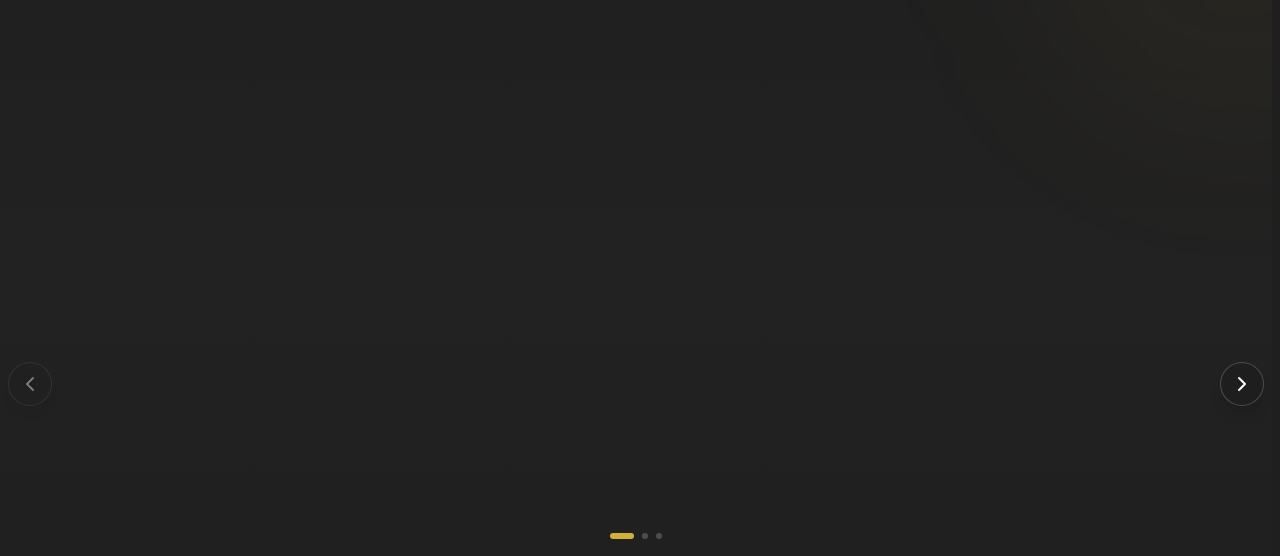
Test: Services desktop carousel › shows one row of three services and moves through pages with arrows
Click the button named "Next services" at [1242, 384], box [1220,362,1264,406]
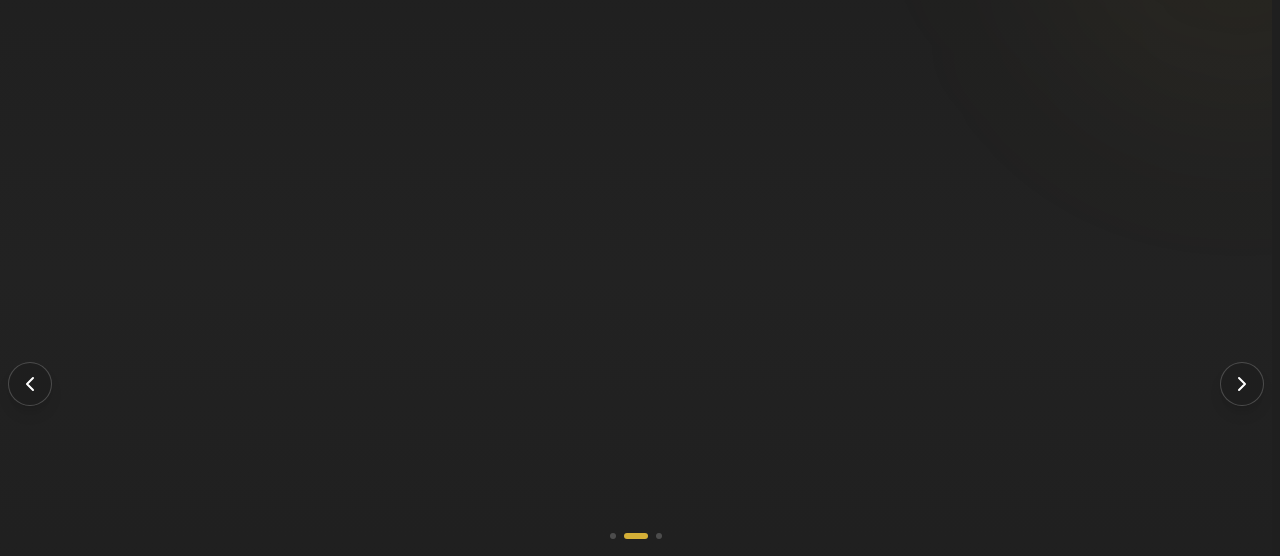
Click the button named "Next services" at [1242, 384], box [1220,362,1264,406]
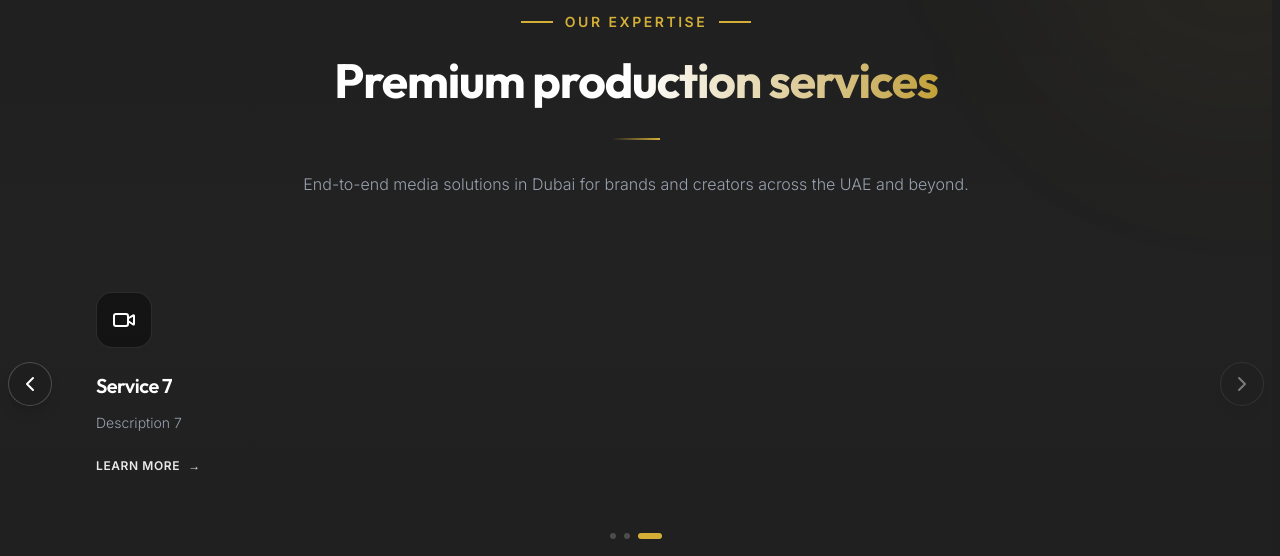
Expected: the number of links "Learn More →" is 1, [96,458,201,473]
Expected: the heading "Service 7" is shown, [96,373,172,398]
Expected: the button named "Next services" is disabled, [1220,362,1264,406]
